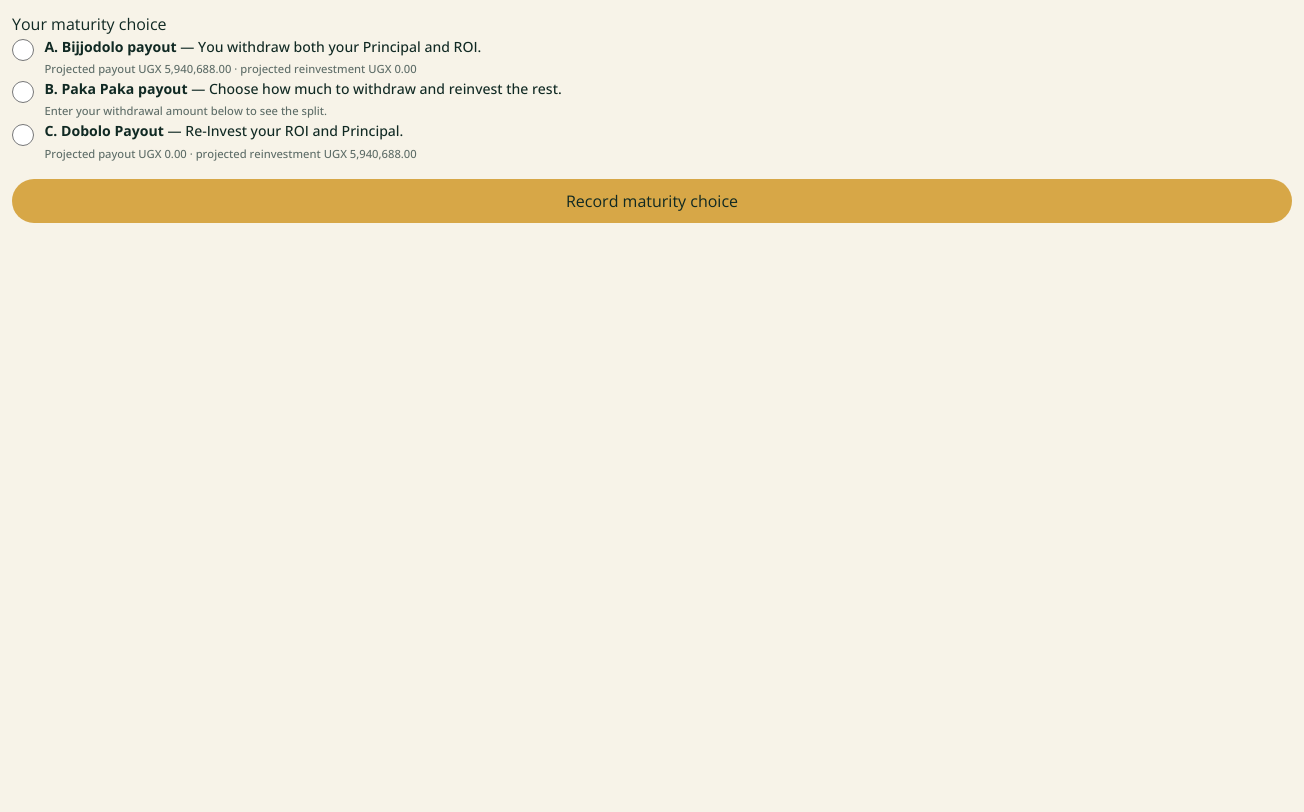
Test: Paka Paka withdrawal form › shows failed saves as an alert without a saved confirmation
The image size is (1304, 812).
Click the radio button labelled "A. Bijjodolo": (23, 50) x1=12 y1=39 x2=34 y2=61
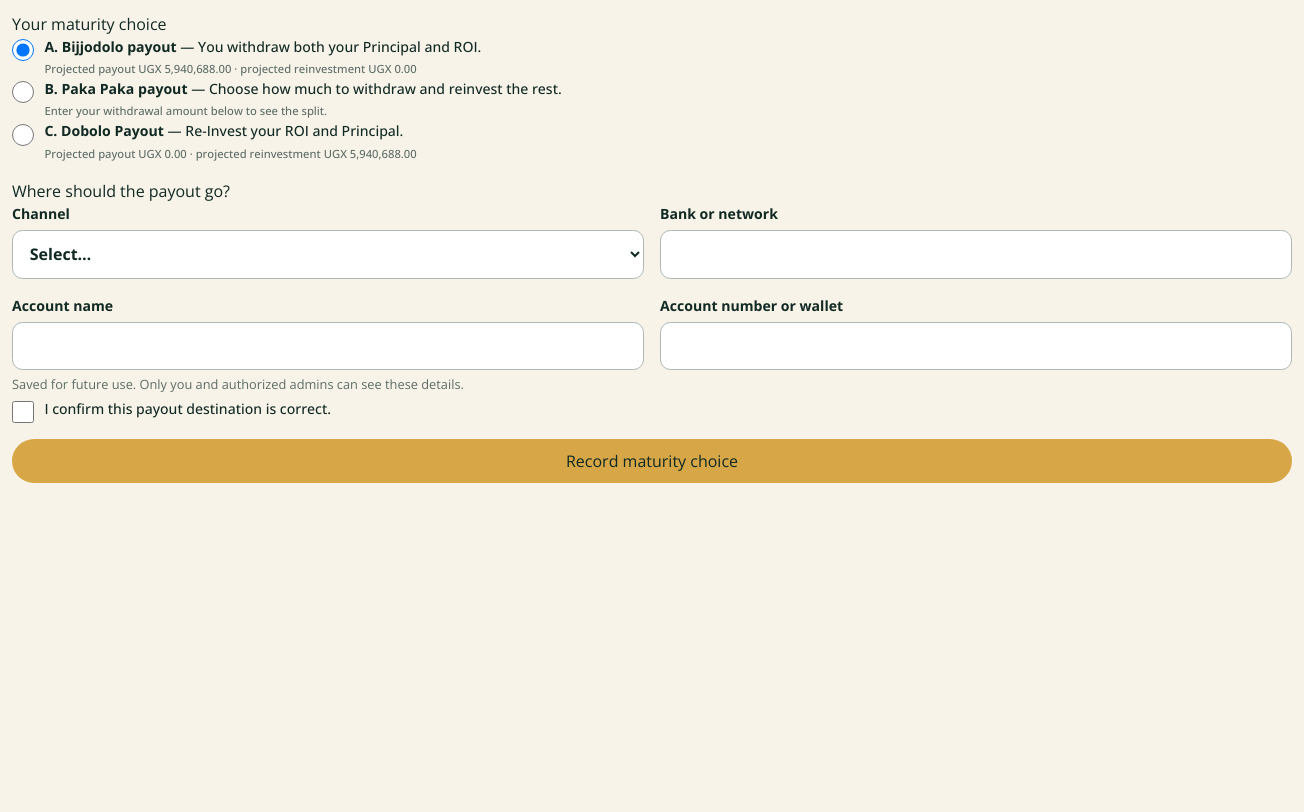
Submit the form, box x1=12 y1=12 x2=1292 y2=483
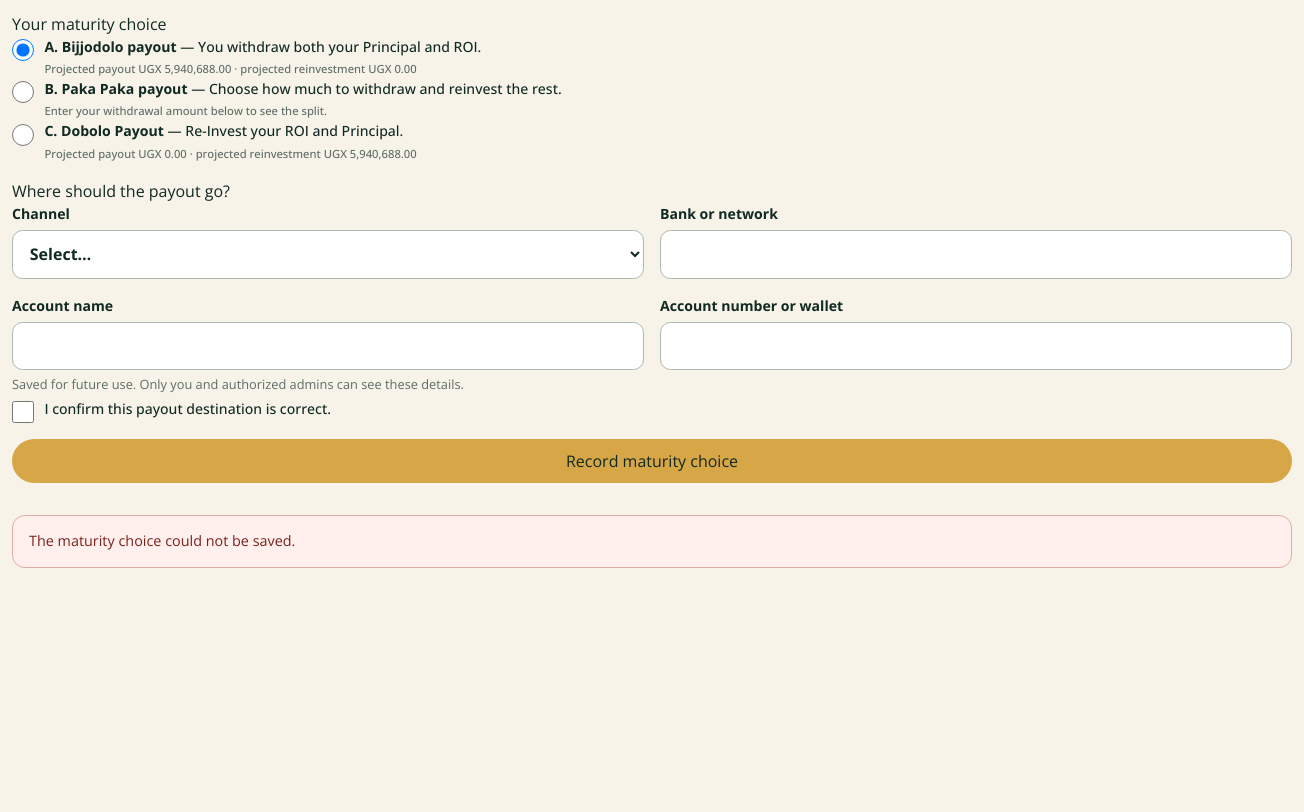
Expected: the message shows "could not be saved", x1=29 y1=531 x2=295 y2=550
